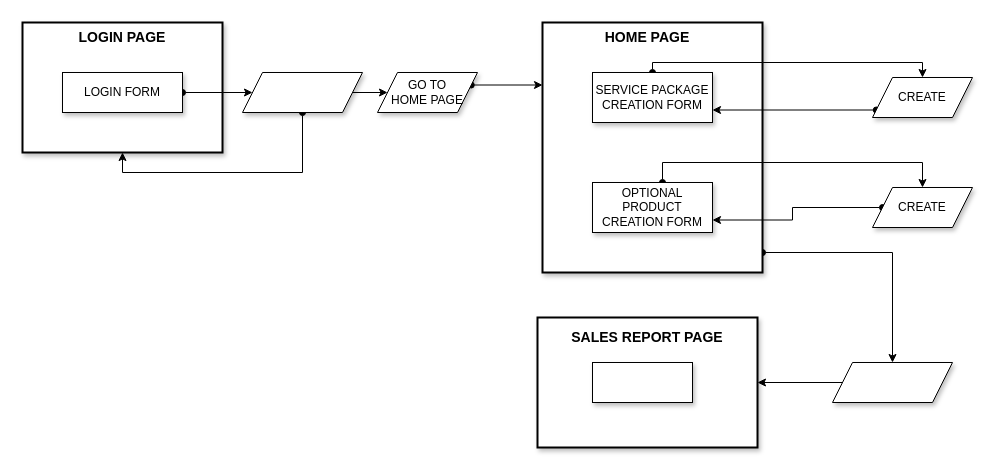
Image size: 996x472. Some labels were removed from this diagram. The centre of each missing label's shape, as x and y in pixels:
"CHECK CREDENTIALS" goes at pixel 303 94.
"Details" goes at pixel 643 384.
"GO TO SALES REPORT" goes at pixel 893 384.
